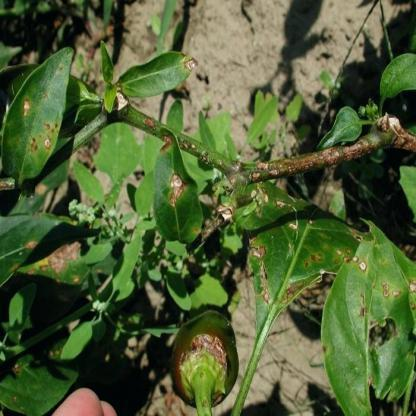Bell_pepper leaf: (240, 180, 364, 331), (321, 218, 413, 415), (2, 47, 76, 199), (148, 127, 206, 246), (119, 45, 201, 112)
